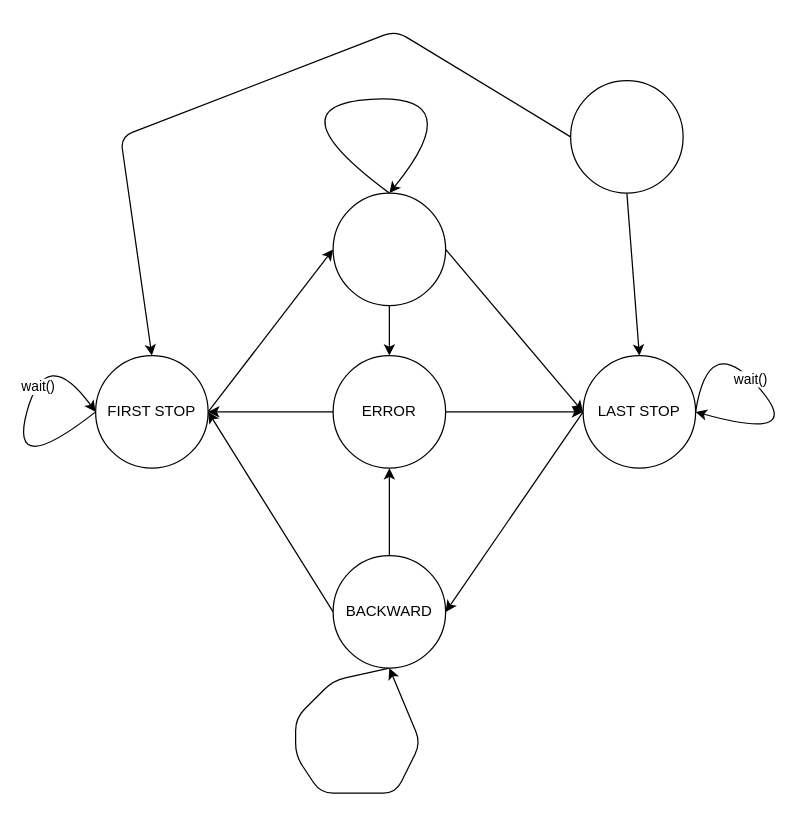
Some shapes in this 796 by 825 pixel diagram are drawn without their labels. The centre of each missing label's shape, as x and y in pixels:
"FORDWARD" goes at [389,249].
"UNDEFINED" goes at [626,136].
